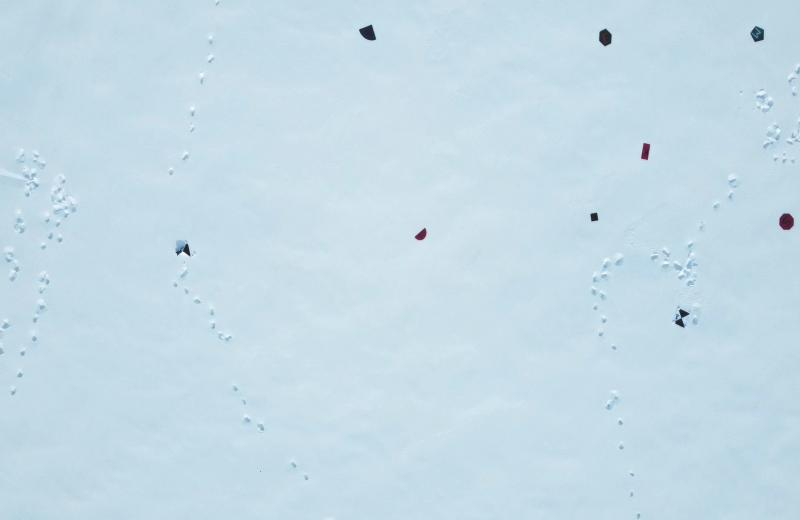Hexagon: (598, 29, 612, 48)
Octagon: (778, 211, 795, 231)
Pentagon: (750, 25, 764, 43)
Quarter Circle: (358, 24, 376, 42)
Rectangle: (639, 142, 650, 163)
Semi Circle: (415, 227, 429, 242)
Square: (590, 212, 599, 222)
